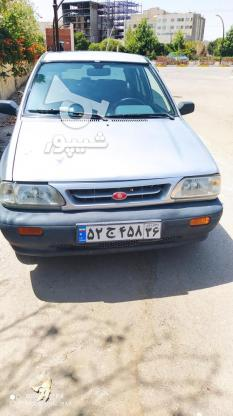car: (76, 223, 165, 241)
